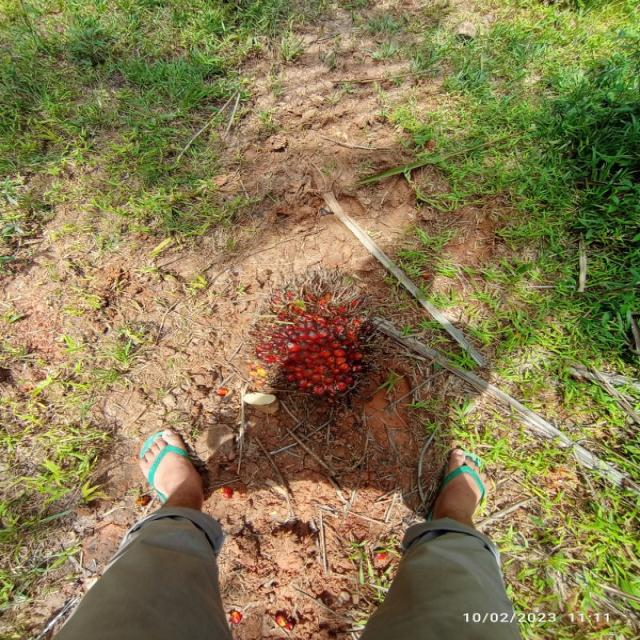fraksi 3: (248, 259, 393, 416)
